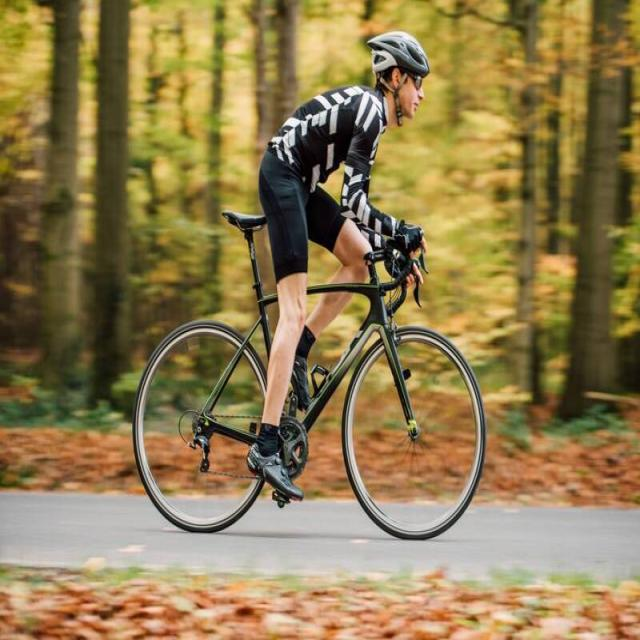sit: (238, 31, 440, 490)
